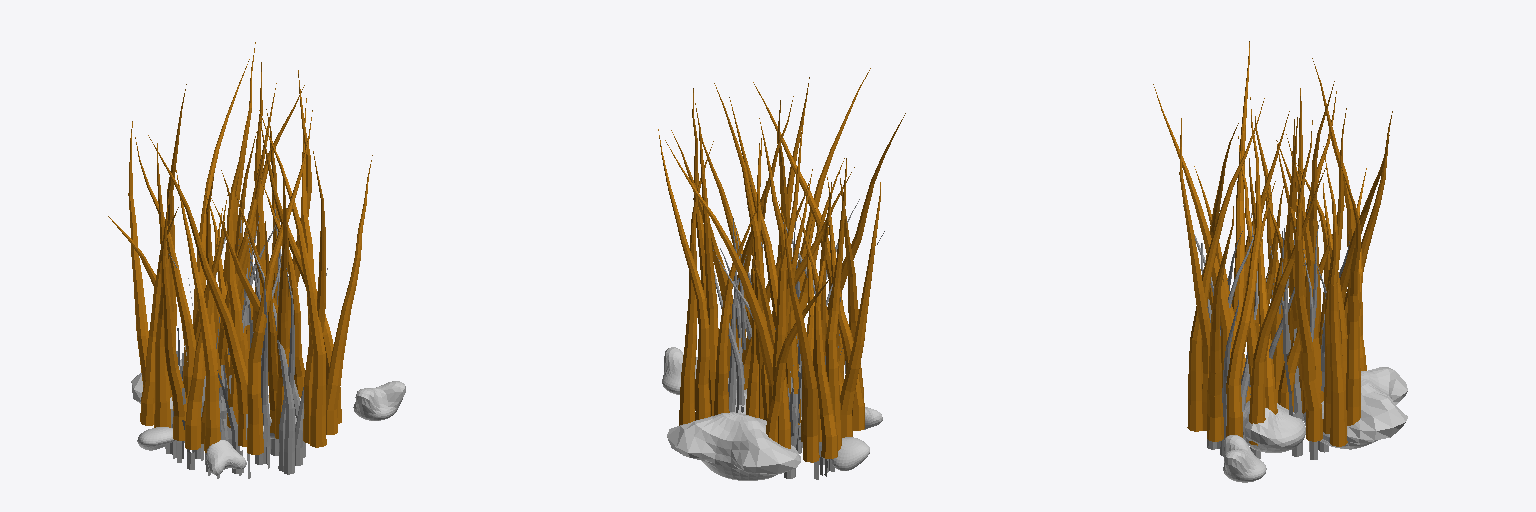
Rendered from savane.obj.
3 views of the same model, side by side, from view 1: azimuth 30°, elevation 25°; view 2: azimuth 150°, elevation 25°; view 3: azimuth 270°, elevation 25° (orthographic).
Parts seen in each view (by area): view 1: bgroup1, bgroup1.003, Sphere.005_Sphere.006, Sphere.004_Sphere.005, Sphere.003_Sphere.004; view 2: bgroup1, Sphere, bgroup1.003, Sphere.003_Sphere.004, Sphere.005_Sphere.006; view 3: bgroup1, bgroup1.003, Sphere, Sphere.001_Sphere.002, Sphere.005_Sphere.006.
Boxes of the visible parts, <box> form: bgroup1: <box>108,42,372,454</box>; bgroup1.003: <box>165,201,327,478</box>; Sphere.005_Sphere.006: <box>353,381,405,420</box>; Sphere.004_Sphere.005: <box>206,440,246,475</box>; Sphere.003_Sphere.004: <box>137,427,174,450</box>; bgroup1: <box>658,68,905,462</box>; Sphere: <box>667,412,800,480</box>; bgroup1.003: <box>713,199,884,479</box>; Sphere.003_Sphere.004: <box>831,437,869,470</box>; Sphere.005_Sphere.006: <box>662,347,697,394</box>; bgroup1: <box>1153,41,1392,446</box>; bgroup1.003: <box>1183,202,1349,459</box>; Sphere: <box>1303,367,1407,449</box>; Sphere.001_Sphere.002: <box>1243,401,1305,452</box>; Sphere.005_Sphere.006: <box>1223,435,1266,482</box>.
Size of the model in its own units: 1.74 by 2.56 by 1.55.